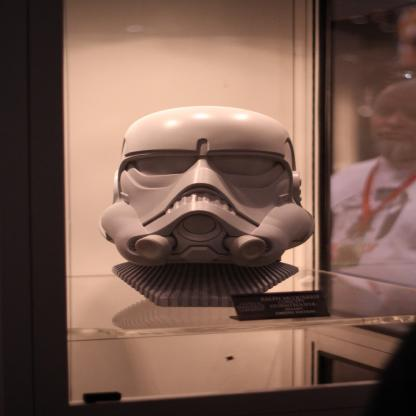Helmet: (99, 103, 314, 266)
